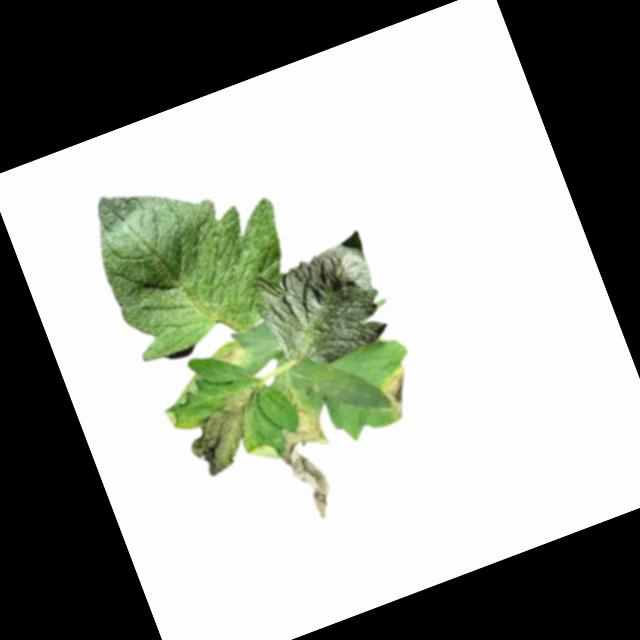Late_blight: (260, 398, 356, 530), (167, 379, 283, 483), (372, 364, 423, 425), (212, 341, 251, 374)
